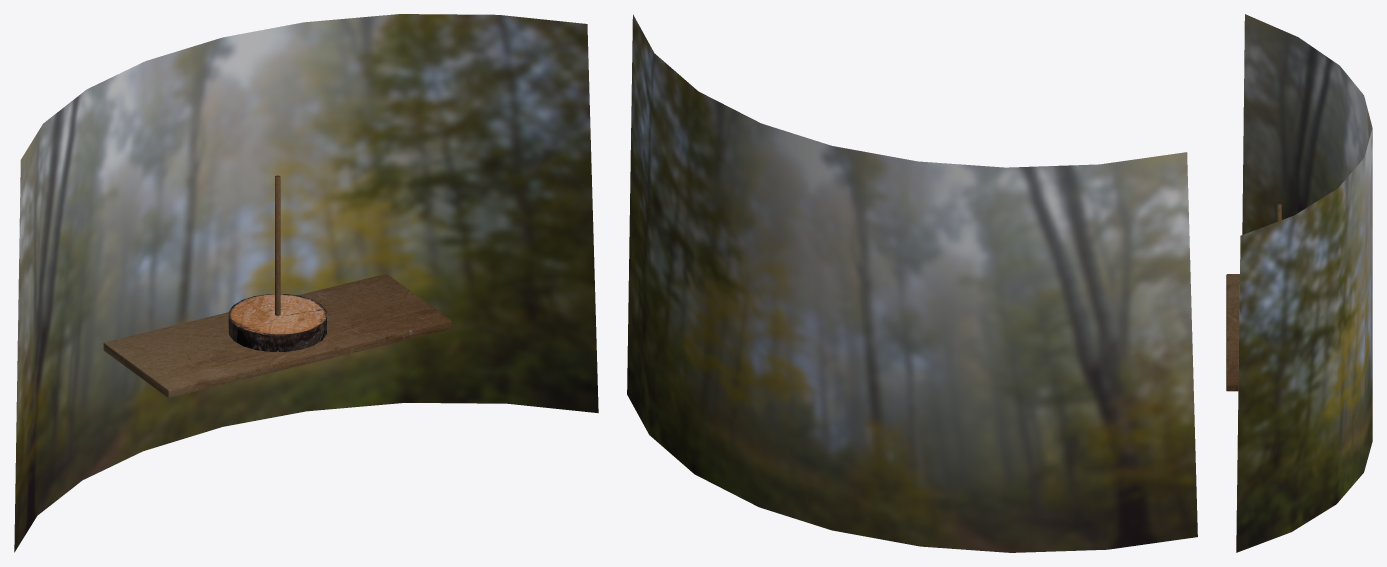
The model's file is Basic.fbx.
3 renders of one model, left to right at view 1: azimuth 30°, elevation 25°; view 2: azimuth 150°, elevation 25°; view 3: azimuth 270°, elevation 25°, orthographic. The views are drawn at different scales.
Parts seen in each view (by area): view 1: Basic_Env, Basic_Base, Basic_Disc, Basic_Staff; view 2: Basic_Env; view 3: Basic_Env, Basic_Base.
Boxes of the visible parts, x1=… form: Basic_Env: x1=14, y1=14, x2=598, y2=552; Basic_Base: x1=103, y1=274, x2=451, y2=397; Basic_Disc: x1=228, y1=294, x2=326, y2=351; Basic_Staff: x1=275, y1=175, x2=280, y2=315; Basic_Env: x1=627, y1=14, x2=1197, y2=552; Basic_Env: x1=1236, y1=14, x2=1372, y2=552; Basic_Base: x1=1226, y1=274, x2=1239, y2=391.
Size of the model in its own units: 35.95 by 23.28 by 9.71.
